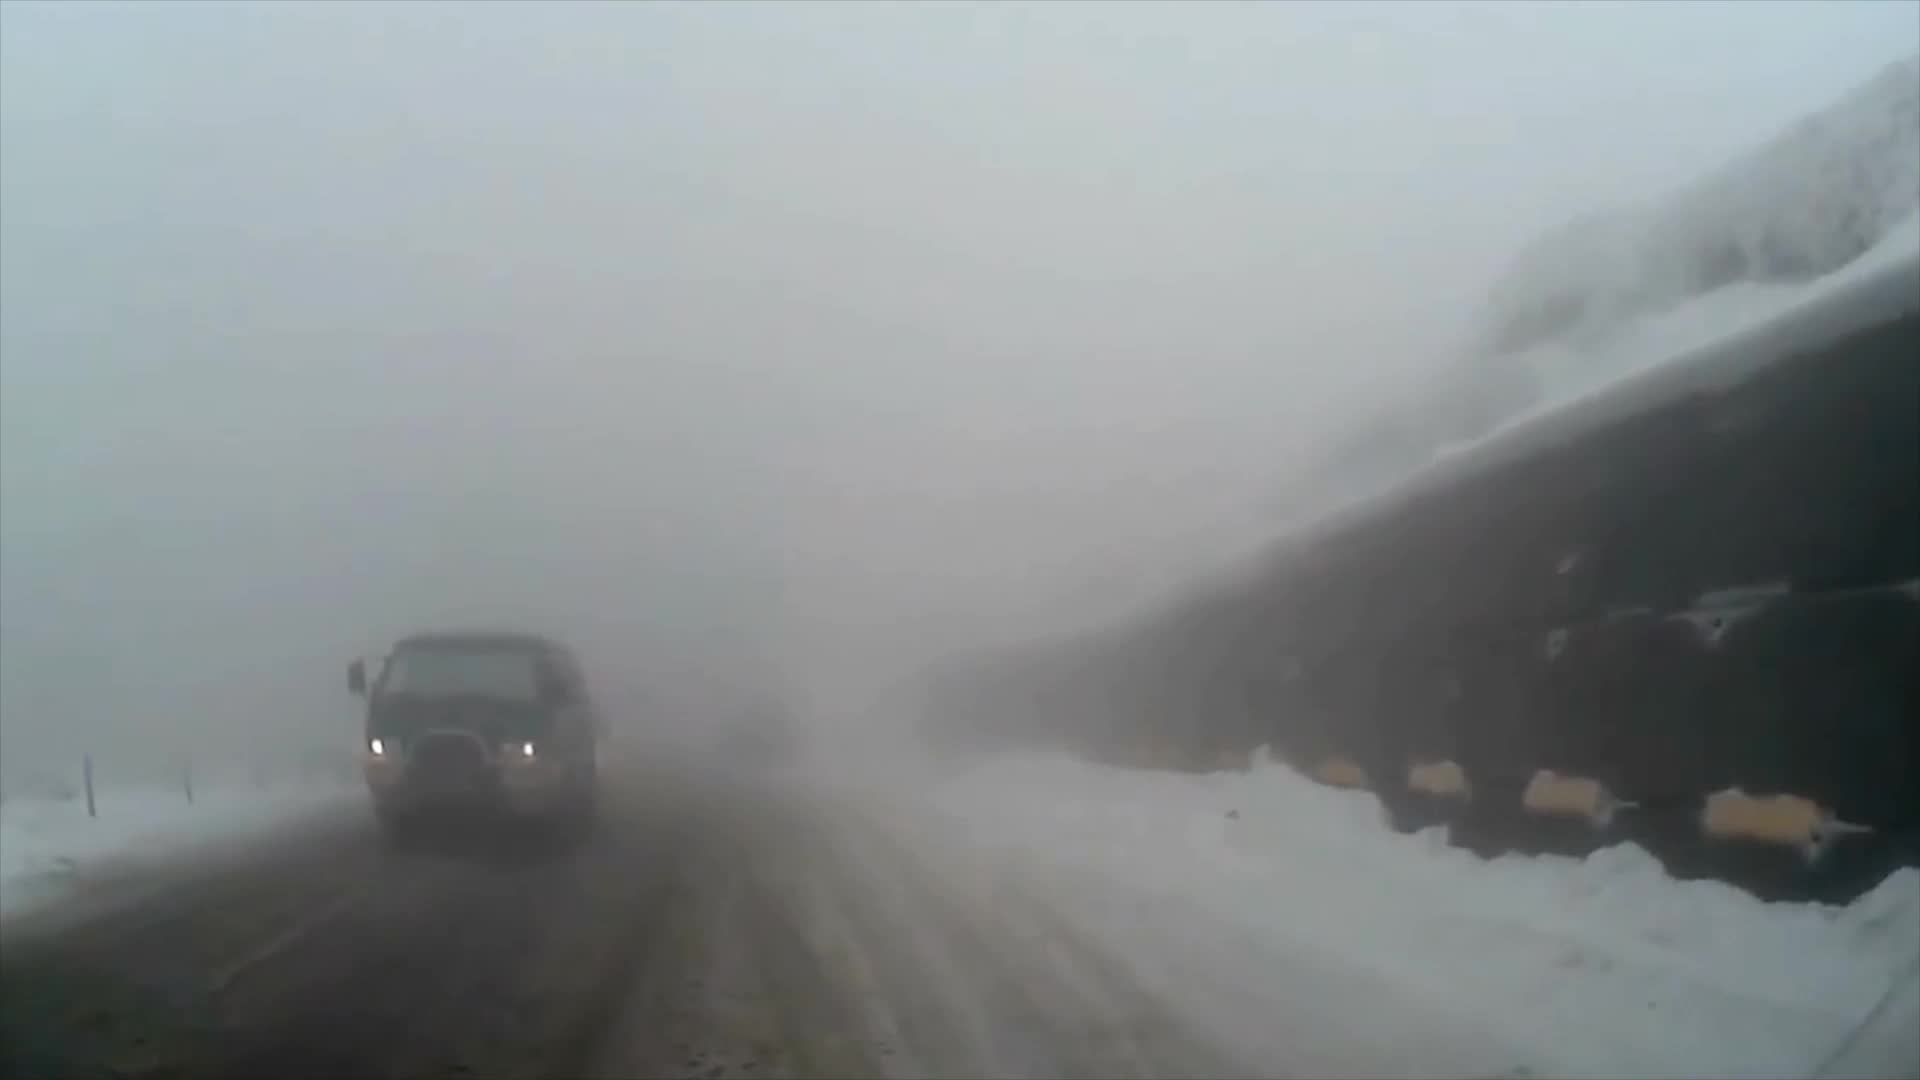vehicle: (342, 625, 600, 855)
